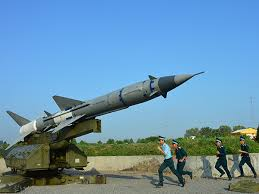ten_lua: (9, 71, 205, 140)
